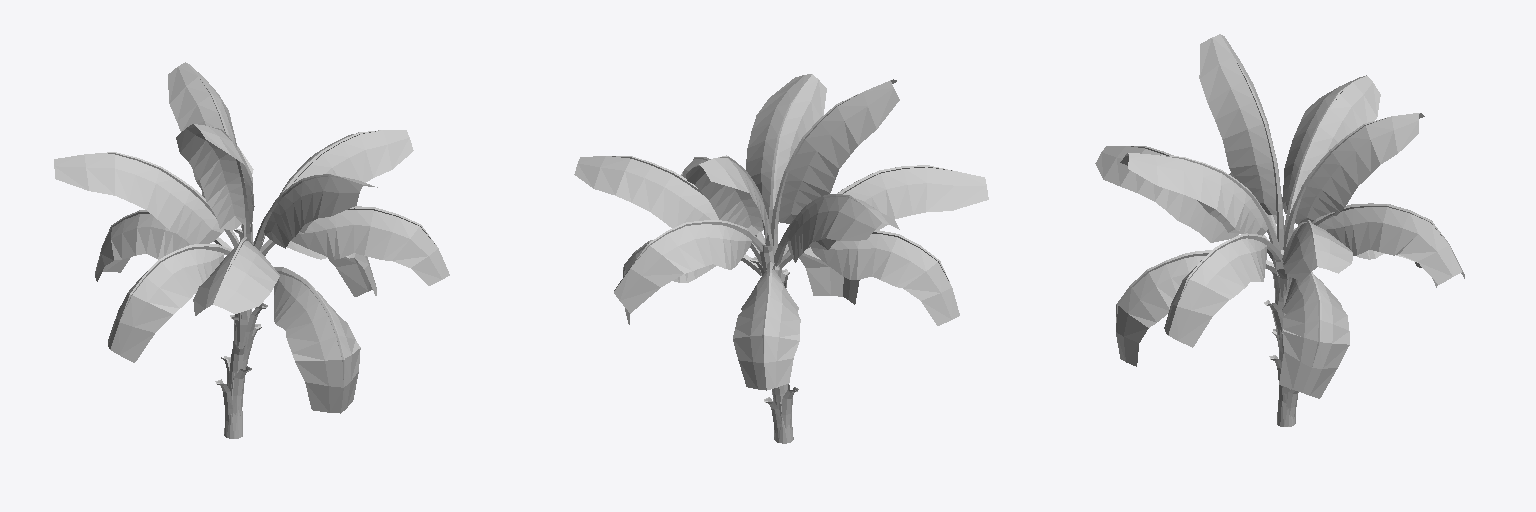
The model's file is Platanito.obj.
3 renders of one model, left to right at view 1: azimuth 30°, elevation 25°; view 2: azimuth 150°, elevation 25°; view 3: azimuth 270°, elevation 25°, orthographic.
Parts seen in each view (by area): view 1: Tree_1_Tree_1Mat_0, Tree_2_Tree_2Mat_0, Tree_4_Tree_4Mat_0, Tree_3_Tree_3Mat_0, Tree_0_Tree_0Mat_0; view 2: Tree_1_Tree_1Mat_0, Tree_2_Tree_2Mat_0, Tree_4_Tree_4Mat_0, Tree_3_Tree_3Mat_0; view 3: Tree_1_Tree_1Mat_0, Tree_2_Tree_2Mat_0, Tree_4_Tree_4Mat_0, Tree_3_Tree_3Mat_0, Tree_0_Tree_0Mat_0.
Part boxes in pixels (left/top/right/bottom): Tree_1_Tree_1Mat_0: left=54, top=62, right=413, bottom=315; Tree_2_Tree_2Mat_0: left=95, top=146, right=449, bottom=413; Tree_4_Tree_4Mat_0: left=95, top=79, right=436, bottom=379; Tree_3_Tree_3Mat_0: left=215, top=229, right=267, bottom=421; Tree_0_Tree_0Mat_0: left=224, top=309, right=251, bottom=438; Tree_1_Tree_1Mat_0: left=574, top=74, right=988, bottom=262; Tree_2_Tree_2Mat_0: left=614, top=159, right=959, bottom=390; Tree_4_Tree_4Mat_0: left=612, top=91, right=952, bottom=353; Tree_3_Tree_3Mat_0: left=750, top=242, right=798, bottom=432; Tree_1_Tree_1Mat_0: left=1095, top=34, right=1424, bottom=281; Tree_2_Tree_2Mat_0: left=1116, top=173, right=1464, bottom=398; Tree_4_Tree_4Mat_0: left=1116, top=59, right=1447, bottom=366; Tree_3_Tree_3Mat_0: left=1264, top=228, right=1298, bottom=418; Tree_0_Tree_0Mat_0: left=1273, top=250, right=1295, bottom=426.
Bounding box in the file's own units: 2.89 × 2.89 × 2.74.